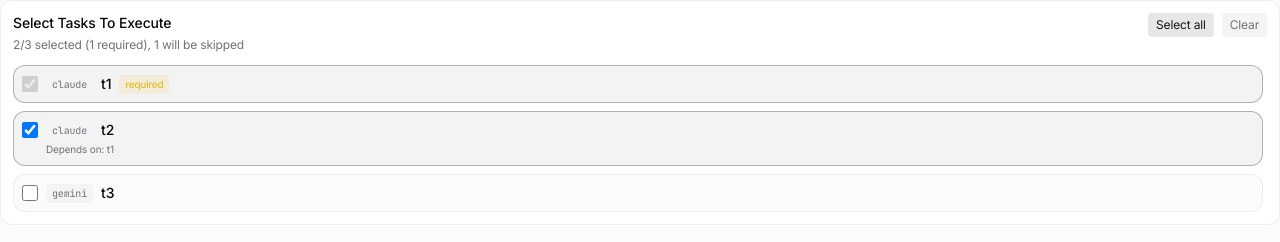
Test: TaskSelectionPanel › auto-includes dependencies as required and disables them
Expected: the checkbox named "Select task t1" is checked, [22, 76, 38, 92]
Expected: the checkbox named "Select task t1" is disabled, [22, 76, 38, 92]
Unselecting t2 should release the dependency and leave nothing selected.
Click the checkbox named "Select task t2" at (30, 130), box [22, 122, 38, 138]
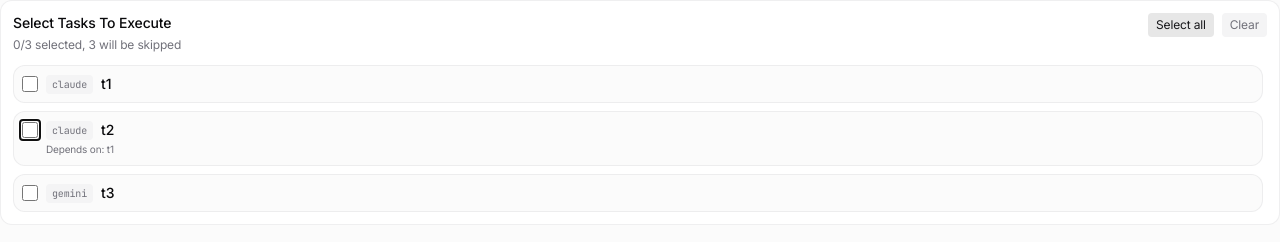
Expected: the checkbox named "Select task t3" is not checked, [22, 185, 38, 201]
Now the checkbox named "Select task t2" is not checked, box [22, 122, 38, 138]
Now the checkbox named "Select task t1" is not checked, box [22, 76, 38, 92]
